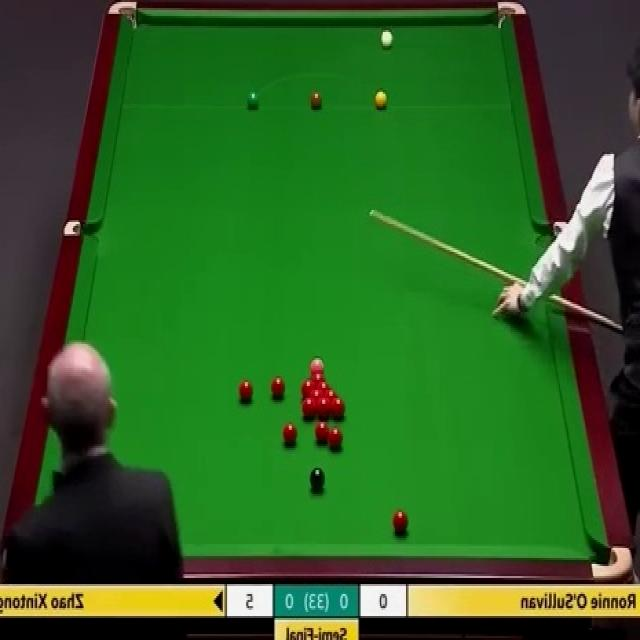pocket: (591, 543, 634, 585), (110, 0, 139, 32), (497, 0, 527, 28), (537, 218, 563, 238), (66, 220, 100, 235)
